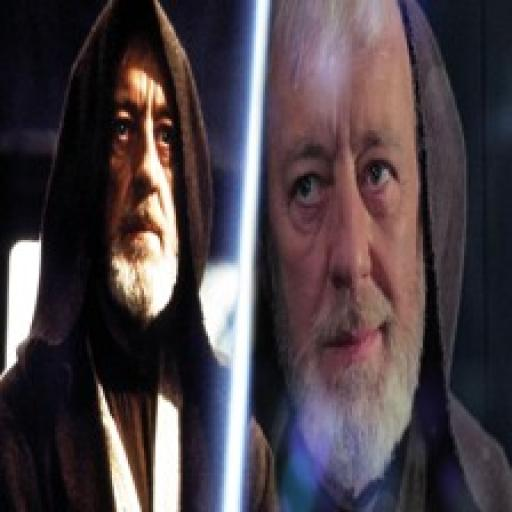human: (0, 2, 267, 511), (265, 1, 511, 512)
lightsaber: (218, 0, 273, 512)
